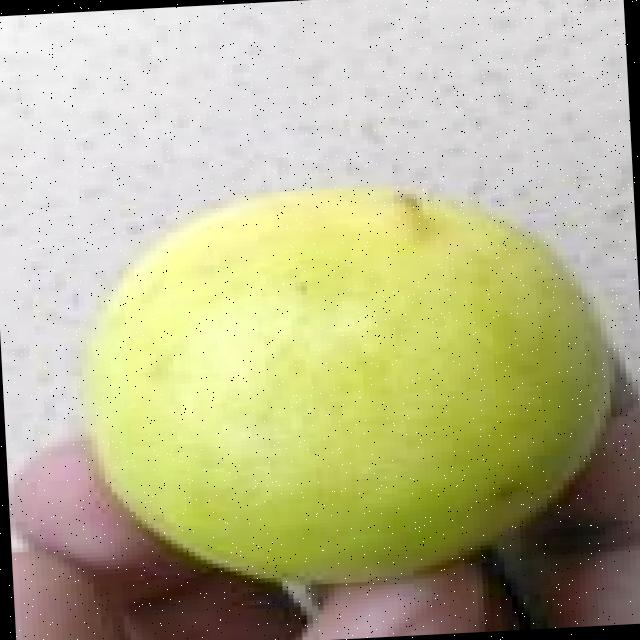Good_Lime-10-21-days: (81, 187, 613, 590)
